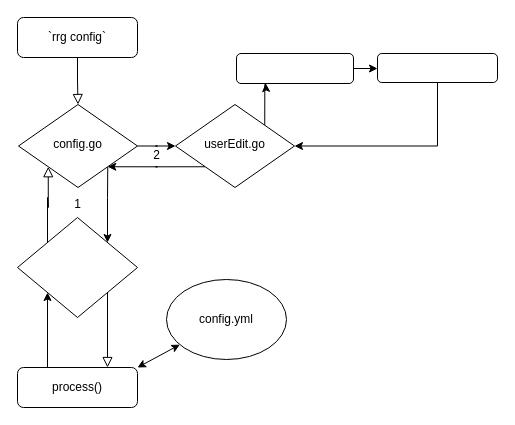
Image size: 515x425. Some labels were removed from this diagram. The centre of each missing label's shape, as x and y in pixels:
"prompt user for each config option" belongs at pixel 295 68.
"write new config to injected config" belongs at pixel 437 67.
"yamlprocessor.go" belongs at pixel 77 267.
